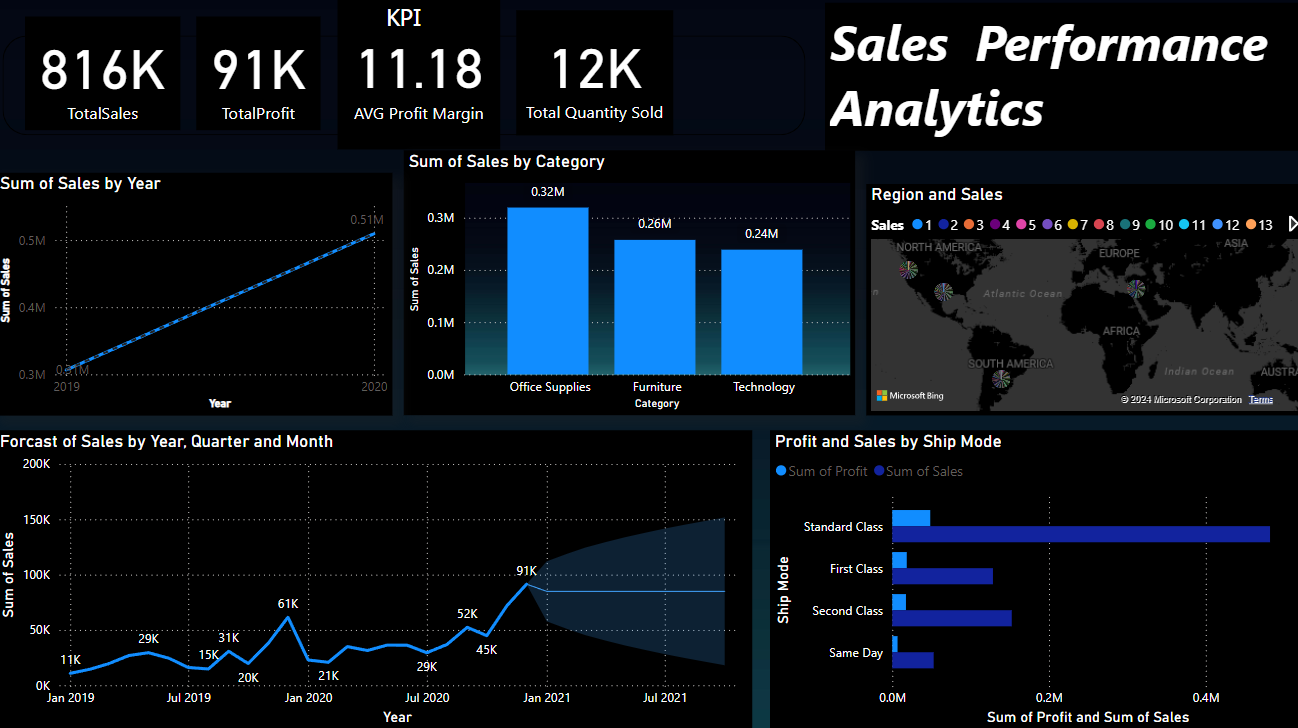

The dashboard page shown, as its layout file describes it:
{"tool":"powerbi","page":{"name":"Sales Performance Dashboard","canvas":[1280,720],"ordinal":0},"visuals":[{"type":"group","id":"g1","title":"Group 1","box":[28.8,2.7,634,149.6],"z":0},{"type":"card","fields":{"Values":["Sheet1.TotalSales"]},"box":[28.8,21.9,152.3,111.1],"z":0,"group":"g1"},{"type":"shape","title":"KPI","box":[6.8,8.1,785.5,129.8],"z":1000},{"type":"card","fields":{"Values":["Sheet1.TotalProfit"]},"box":[196.6,21.9,121.9,111.1],"z":1000,"group":"g1"},{"type":"card","fields":{"Values":["Sheet1.AVG Profit Margin"]},"box":[333.9,2.7,159.6,149.6],"z":2000,"group":"g1"},{"type":"textbox","box":[812.5,8.1,467.8,144.7],"z":2000},{"type":"card","fields":{"Values":["Sum(Sheet1.Quantity)"]},"box":[509,16.4,153.8,122.1],"z":3000,"group":"g1"},{"type":"columnChart","fields":{"Category":["Sheet1.Category"],"Y":["Sum(Sheet1.Sales)"]},"box":[399.9,152.9,441.4,259.2],"z":3000},{"type":"lineChart","fields":{"Category":["Sheet1.Order Date.Variation.Date Hierarchy.Year","Sheet1.Order Date.Variation.Date Hierarchy.Quarter","Sheet1.Order Date.Variation.Date Hierarchy.Month","Sheet1.Order Date.Variation.Date Hierarchy.Day"],"Y":["Sum(Sheet1.Sales)"]},"box":[0,174.9,388.9,237.2],"z":4000},{"type":"map","fields":{"Category":["Sheet1.Region"],"Series":["Sheet1.Sales"]},"box":[852.3,185.9,428,226.2],"z":4001},{"type":"lineChart","title":"Forcast of Sales by Year, Quarter and Month","fields":{"Y":["Sum(Sheet1.Sales)"],"Category":["Sheet1.Order Date.Variation.Date Hierarchy.Year","Sheet1.Order Date.Variation.Date Hierarchy.Quarter","Sheet1.Order Date.Variation.Date Hierarchy.Month"]},"box":[0,426.8,741,293.5],"z":4002},{"type":"clusteredBarChart","title":"Profit and Sales by Ship Mode","fields":{"Y":["Sum(Sheet1.Profit)","Sum(Sheet1.Sales)"],"Category":["Sheet1.Ship Mode"]},"box":[758.2,426.8,522.1,293.5],"z":4003}]}

Visuals, with their boxes in screenshot pixels (x1, y1, x2, y2), scaled from the page's 1280x720 canvas onto the 1298x728 screenshot:
"Group 1" group: locate(29, 3, 672, 154)
card - Sheet1.TotalSales: locate(29, 22, 184, 134)
"KPI" shape: locate(7, 8, 803, 139)
card - Sheet1.TotalProfit: locate(199, 22, 323, 134)
card - Sheet1.AVG Profit Margin: locate(339, 3, 500, 154)
textbox: locate(824, 8, 1297, 154)
card - Sum(Sheet1.Quantity): locate(516, 17, 672, 140)
columnChart - Sheet1.Category x Sum(Sheet1.Sales): locate(406, 155, 853, 417)
lineChart - Sheet1.Order Date.Variation.Date Hierarchy.Year x Sheet1.Order Date.Variation.Date Hierarchy.Quarter: locate(0, 177, 394, 417)
map - Sheet1.Region x Sheet1.Sales: locate(864, 188, 1297, 417)
"Forcast of Sales by Year, Quarter and Month" lineChart: locate(0, 432, 751, 727)
"Profit and Sales by Ship Mode" clusteredBarChart: locate(769, 432, 1297, 727)
